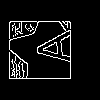A: (26, 28, 75, 68)
